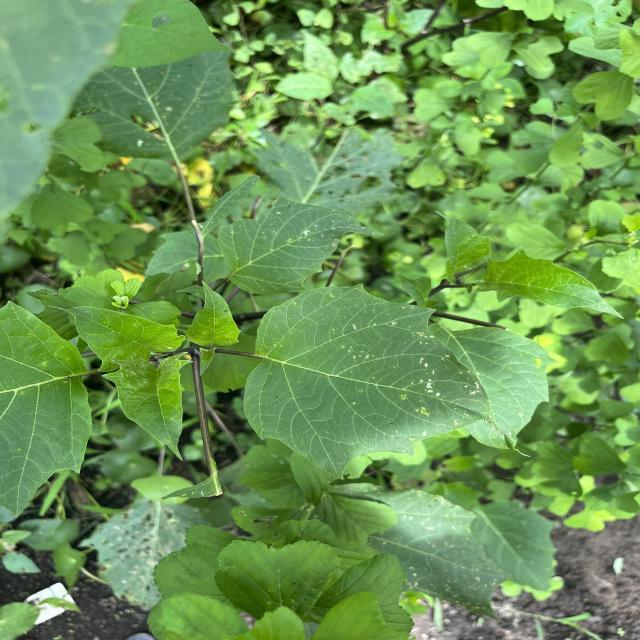Datura metal linn: (240, 281, 532, 482), (472, 244, 627, 322), (99, 348, 195, 462), (46, 302, 188, 374), (182, 278, 244, 348)
